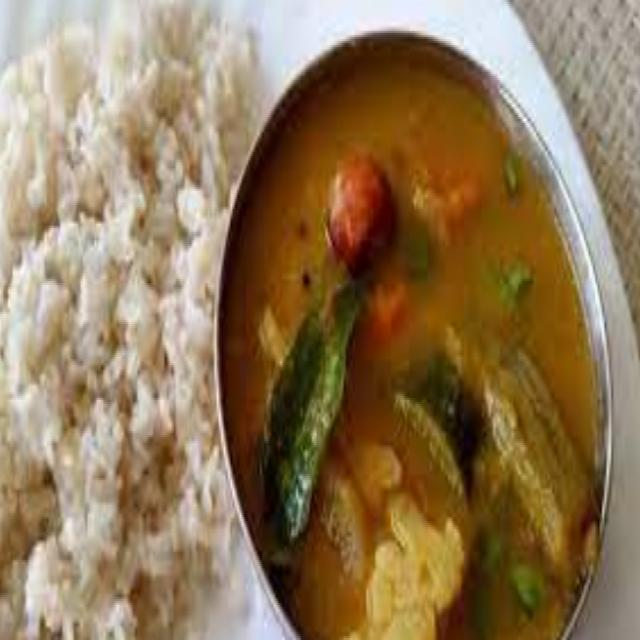sambar: (292, 79, 569, 640)
